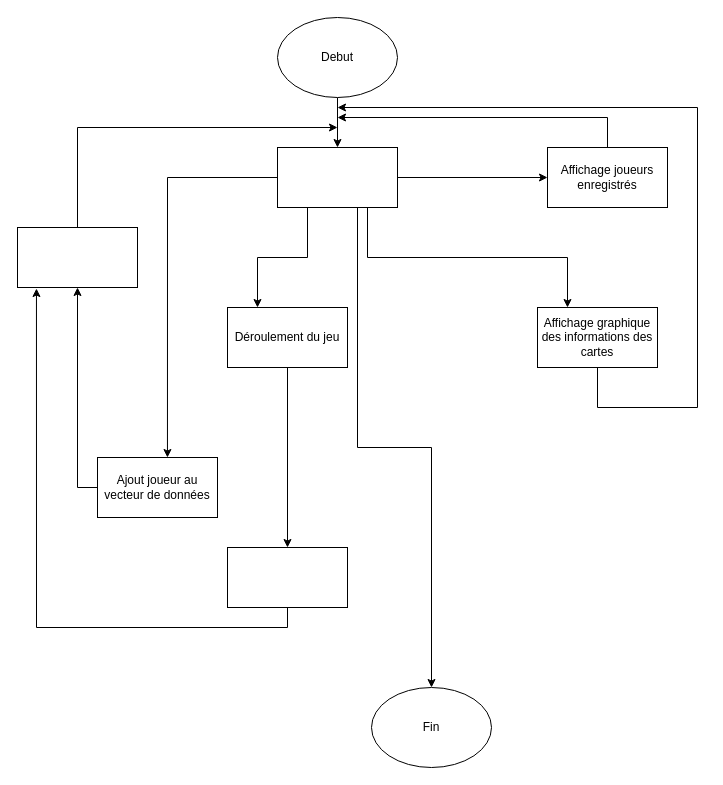
Some shapes in this 723 by 785 pixel diagram are drawn without their labels. The centre of each missing label's shape, as x and y in pixels:
"Ajout des données modifiées de chaque joueur au vecteur de données" goes at pixel 287 577.
"Enregistrement du vecteur de données en mémoire" goes at pixel 77 257.
"Menu" goes at pixel 337 177.
